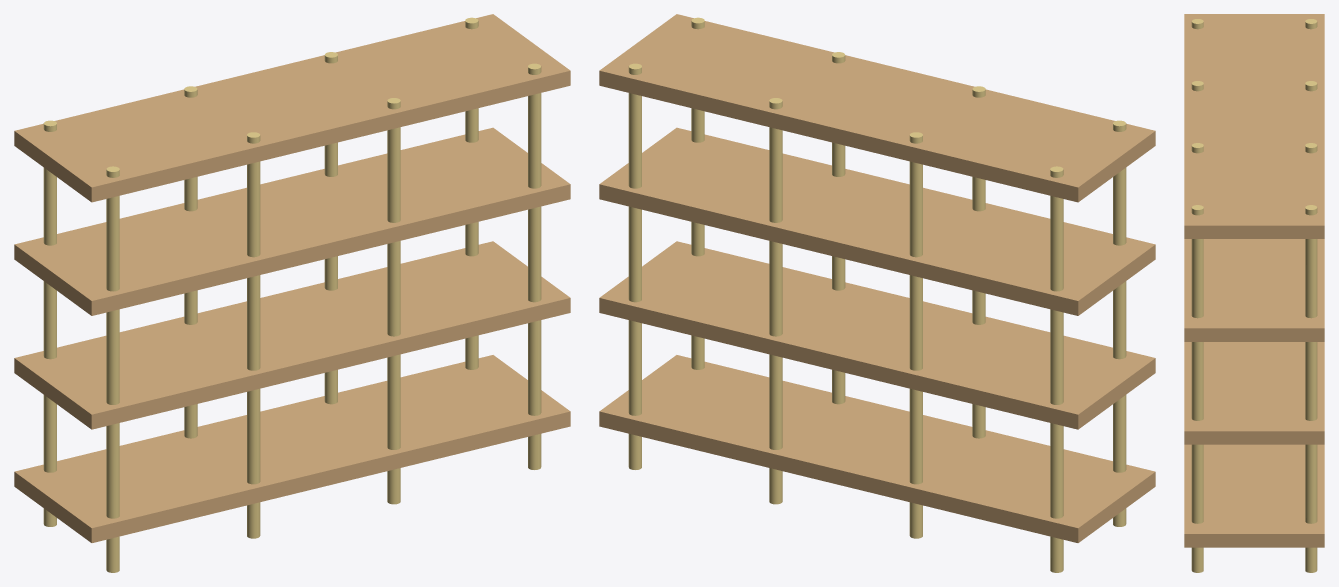
The model's file is bookshelf.glb.
3 views of the same model, side by side, from view 1: azimuth 30°, elevation 25°; view 2: azimuth 150°, elevation 25°; view 3: azimuth 270°, elevation 25° (orthographic). The views are drawn at different scales.
Visible parts, largest first — view 1: OakShelf_3, OakShelf_0, OakShelf_2, OakShelf_1, BrassStrut_1_1, BrassStrut_0_1, BrassStrut_3_1, BrassStrut_2_1, BrassStrut_0_0, BrassStrut_1_0, BrassStrut_3_0, BrassStrut_2_0; view 2: OakShelf_3, OakShelf_0, OakShelf_2, OakShelf_1, BrassStrut_1_0, BrassStrut_0_0, BrassStrut_3_0, BrassStrut_2_0, BrassStrut_0_1, BrassStrut_1_1, BrassStrut_3_1, BrassStrut_2_1; view 3: OakShelf_3, OakShelf_0, OakShelf_1, OakShelf_2, BrassStrut_3_0, BrassStrut_3_1.
Part boxes in pixels (bbox=[...]): OakShelf_3: bbox=[14, 14, 570, 202]; OakShelf_0: bbox=[14, 355, 570, 542]; OakShelf_2: bbox=[14, 127, 570, 315]; OakShelf_1: bbox=[14, 241, 570, 429]; BrassStrut_1_1: bbox=[247, 132, 260, 538]; BrassStrut_0_1: bbox=[106, 166, 119, 572]; BrassStrut_3_1: bbox=[528, 63, 541, 469]; BrassStrut_2_1: bbox=[387, 98, 400, 504]; BrassStrut_0_0: bbox=[43, 120, 56, 526]; BrassStrut_1_0: bbox=[184, 86, 197, 438]; BrassStrut_3_0: bbox=[465, 17, 478, 369]; BrassStrut_2_0: bbox=[324, 52, 337, 404]; OakShelf_3: bbox=[599, 14, 1155, 202]; OakShelf_0: bbox=[599, 355, 1155, 542]; OakShelf_2: bbox=[599, 127, 1155, 315]; OakShelf_1: bbox=[599, 241, 1155, 429]; BrassStrut_1_0: bbox=[909, 132, 922, 538]; BrassStrut_0_0: bbox=[1050, 166, 1063, 572]; BrassStrut_3_0: bbox=[628, 63, 641, 469]; BrassStrut_2_0: bbox=[769, 98, 782, 504]; BrassStrut_0_1: bbox=[1113, 120, 1126, 526]; BrassStrut_1_1: bbox=[972, 86, 985, 438]; BrassStrut_3_1: bbox=[691, 17, 704, 369]; BrassStrut_2_1: bbox=[832, 52, 845, 404]; OakShelf_3: bbox=[1184, 14, 1324, 238]; OakShelf_0: bbox=[1184, 444, 1324, 547]; OakShelf_1: bbox=[1184, 342, 1324, 444]; OakShelf_2: bbox=[1184, 239, 1324, 341]; BrassStrut_3_0: bbox=[1305, 205, 1317, 572]; BrassStrut_3_1: bbox=[1191, 205, 1203, 572].
Bounding box in the file's own units: 1.5 × 1.2 × 0.42.
